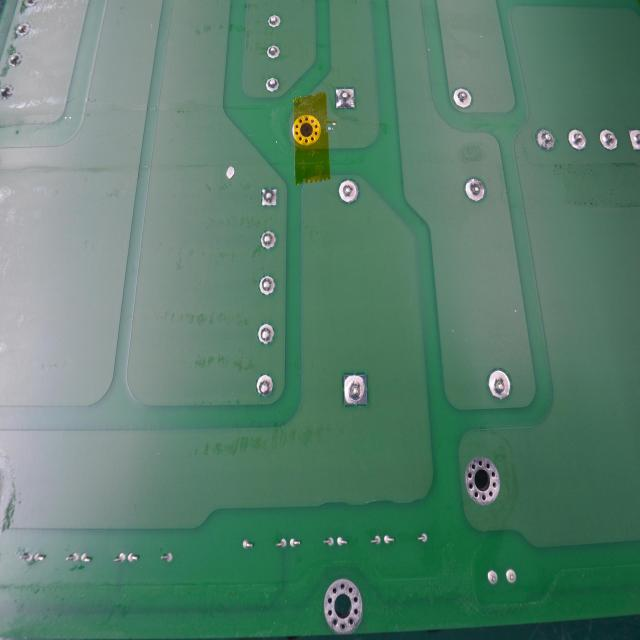spillover: (222, 162, 238, 182), (326, 121, 337, 133), (450, 327, 457, 334)
